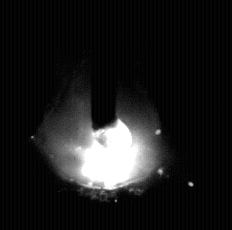arame: (91, 0, 117, 132)
poca: (37, 0, 163, 230)
